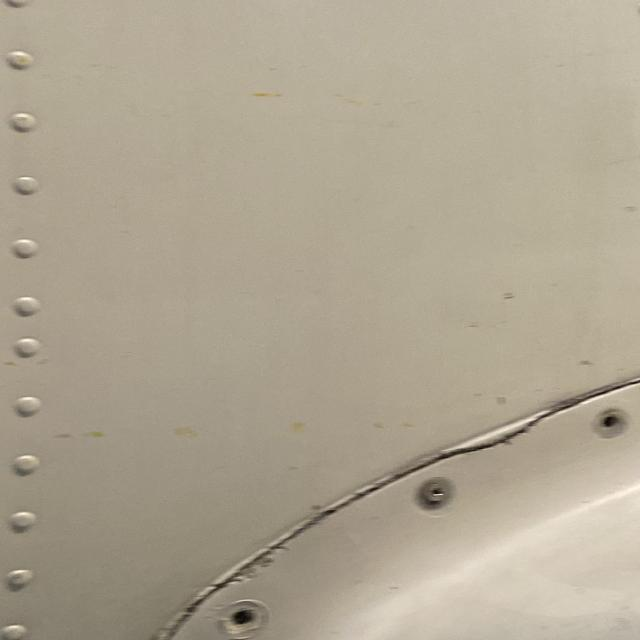Crack: (208, 461, 432, 589), (425, 411, 563, 470), (119, 598, 220, 640)
Missing-head: (219, 602, 267, 640), (595, 408, 630, 439)
